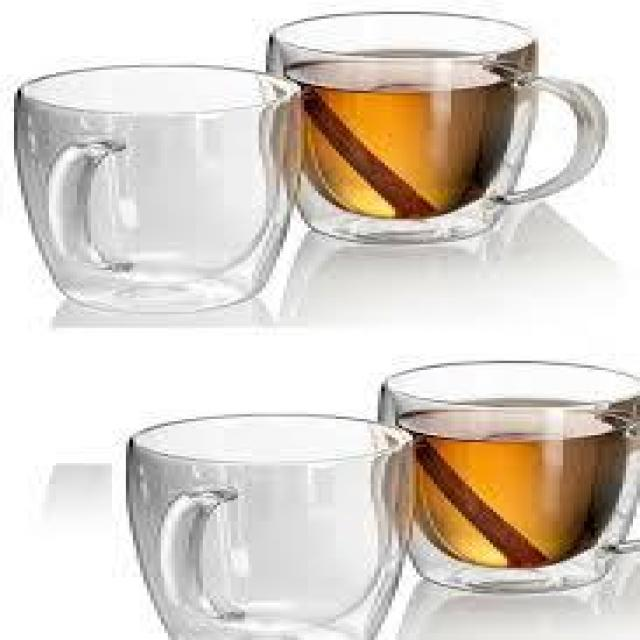non-organic waste: (259, 9, 615, 244), (5, 64, 310, 315)
